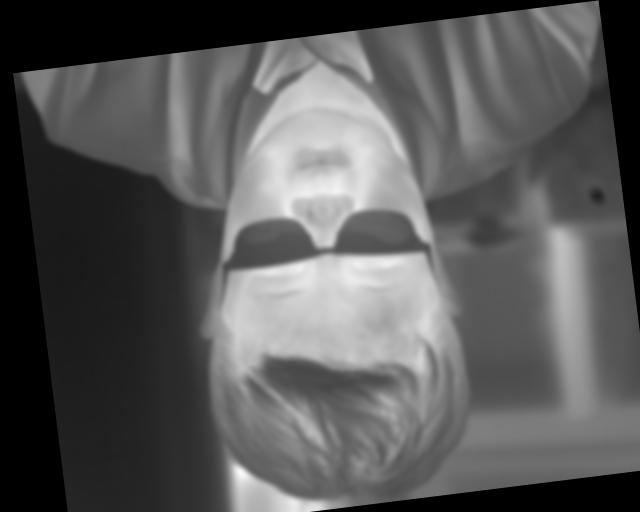face: (169, 91, 483, 512)
